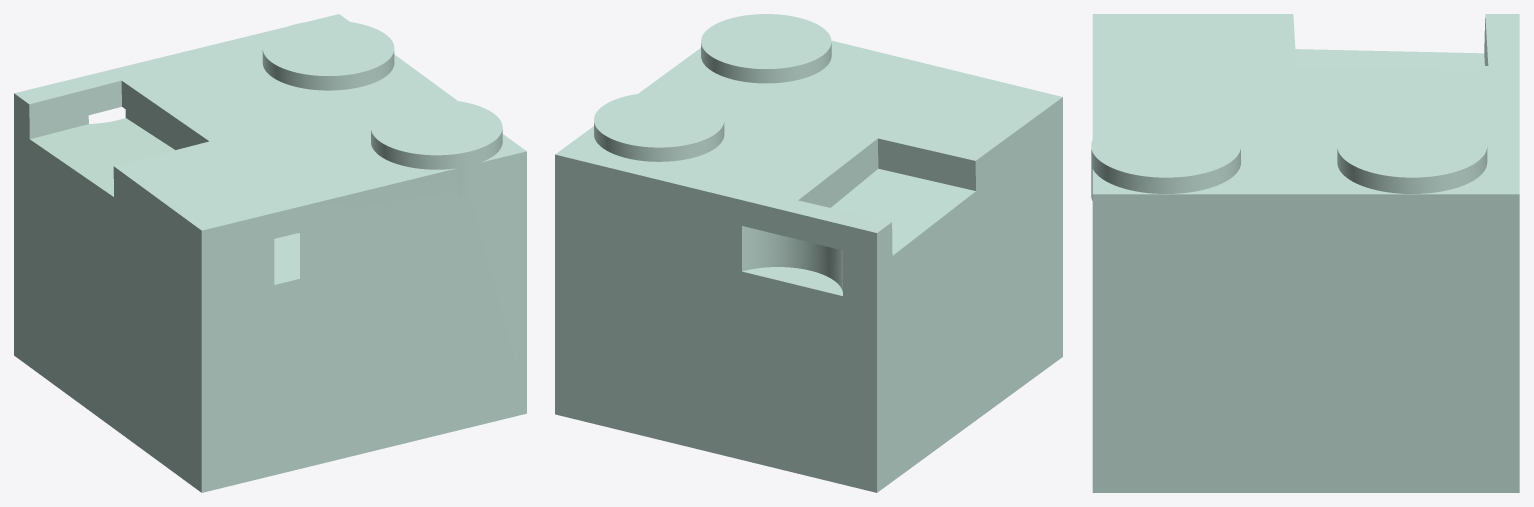
The picture shows the model from 3 angles, left to right: view 1: azimuth 30°, elevation 25°; view 2: azimuth 150°, elevation 25°; view 3: azimuth 270°, elevation 25°; orthographic projection. The views are drawn at different scales.
Parts seen in each view (by area): view 1: Renderer Node; view 2: Renderer Node; view 3: Renderer Node.
Part boxes in pixels (bbox=[...]): Renderer Node: bbox=[14, 14, 526, 492]; Renderer Node: bbox=[555, 14, 1062, 492]; Renderer Node: bbox=[1091, 14, 1519, 492].
Size of the model in its own units: 0.9219 by 0.75 by 0.9252.
